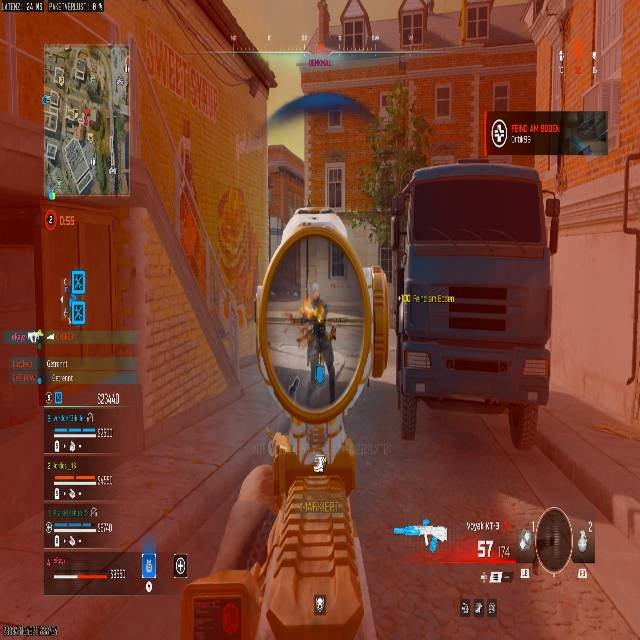head: (311, 298, 327, 318)
player: (294, 299, 337, 385)
